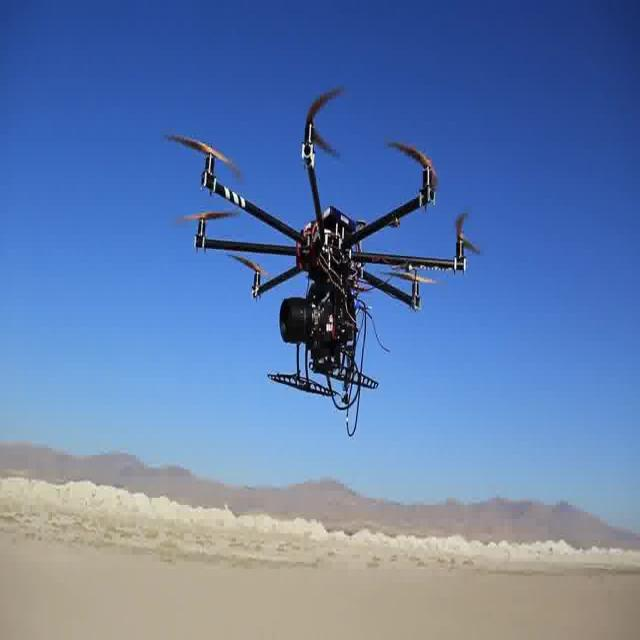drone: (156, 76, 483, 441)
